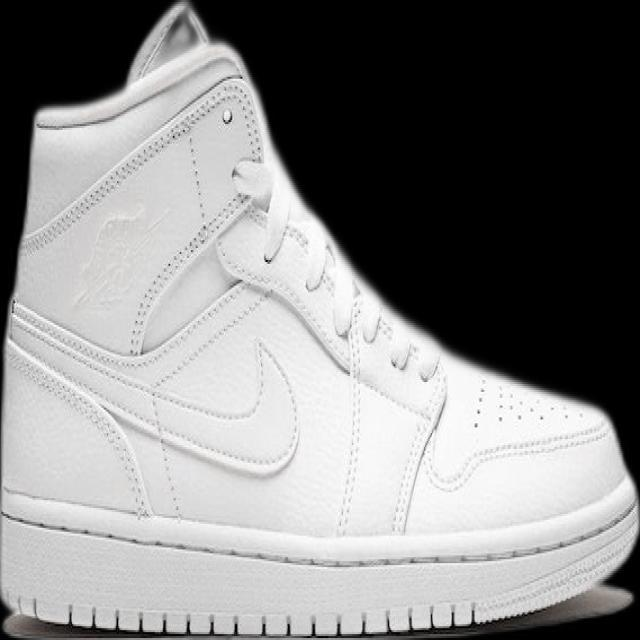J1_InsoleChar: (0, 0, 639, 639)
J1_StitchPattern: (223, 158, 443, 388), (0, 498, 638, 571), (20, 75, 258, 255), (330, 286, 446, 536), (125, 157, 266, 355), (4, 336, 153, 518), (11, 597, 486, 639), (342, 290, 441, 387), (333, 289, 366, 536), (468, 376, 553, 429)
